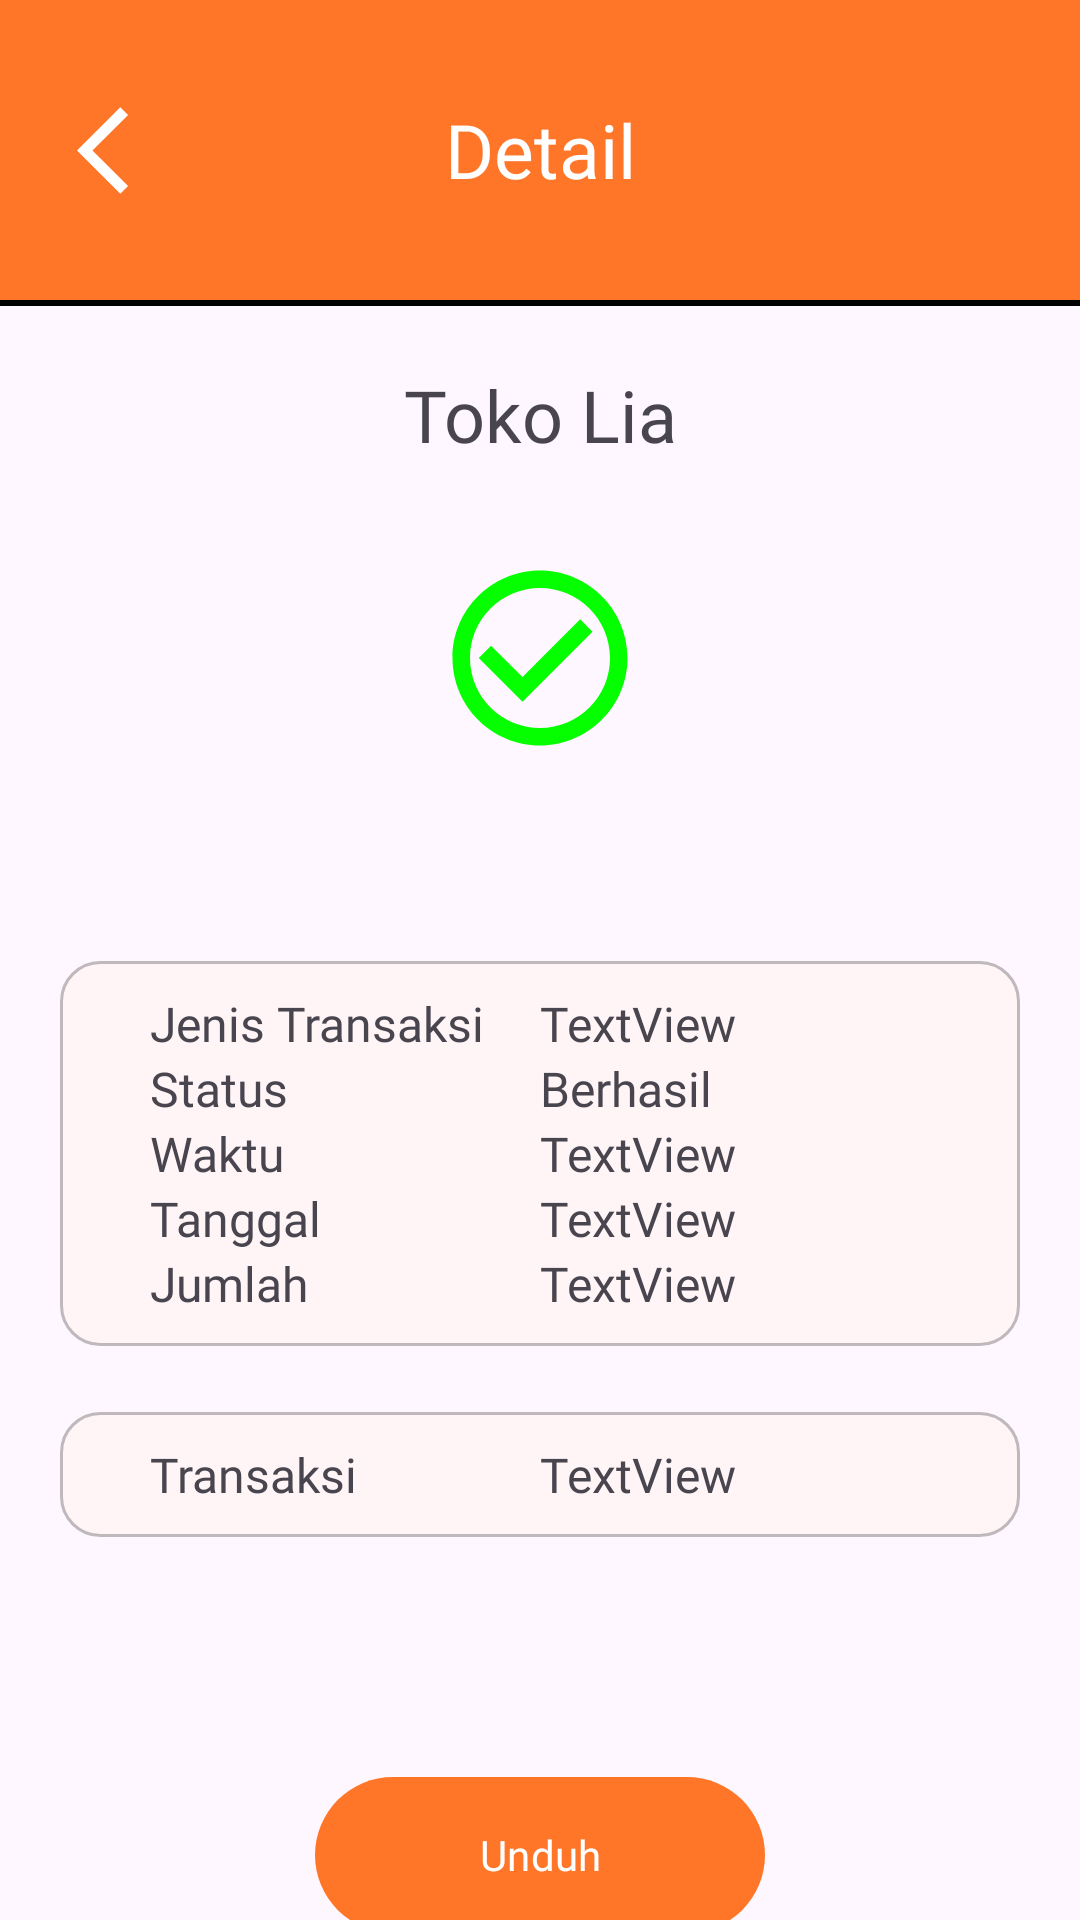

Icon click points for this 1080px x 1920px phone screenshot, format point (x, y):
check circle: point (540, 658)
